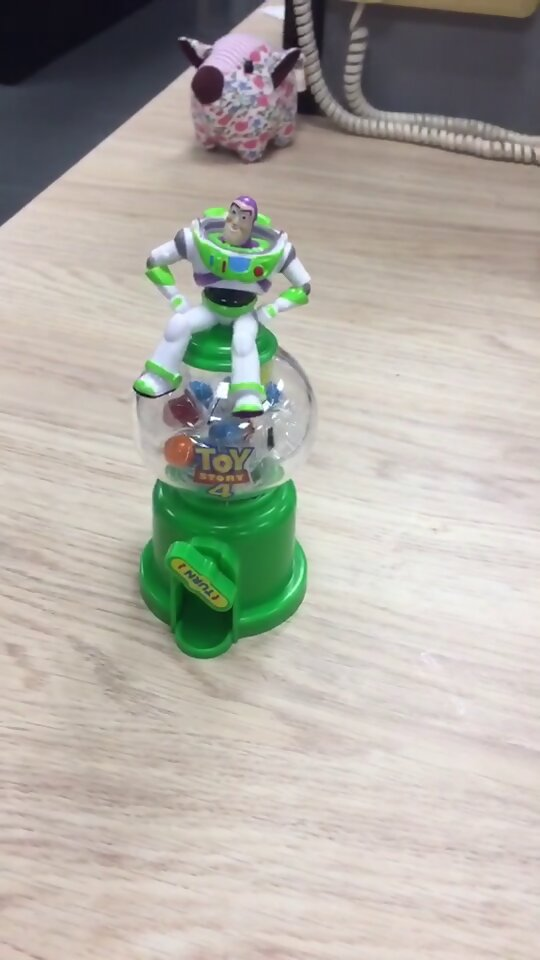buzz: (129, 190, 321, 663)
